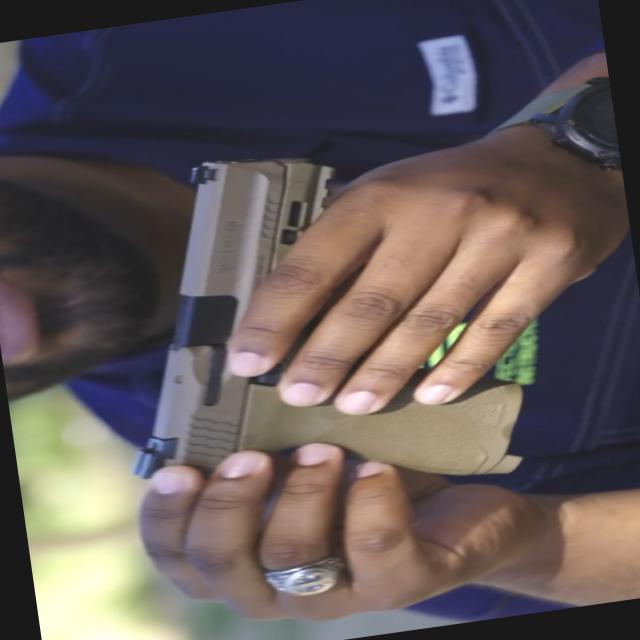handgun: (70, 82, 582, 556)
